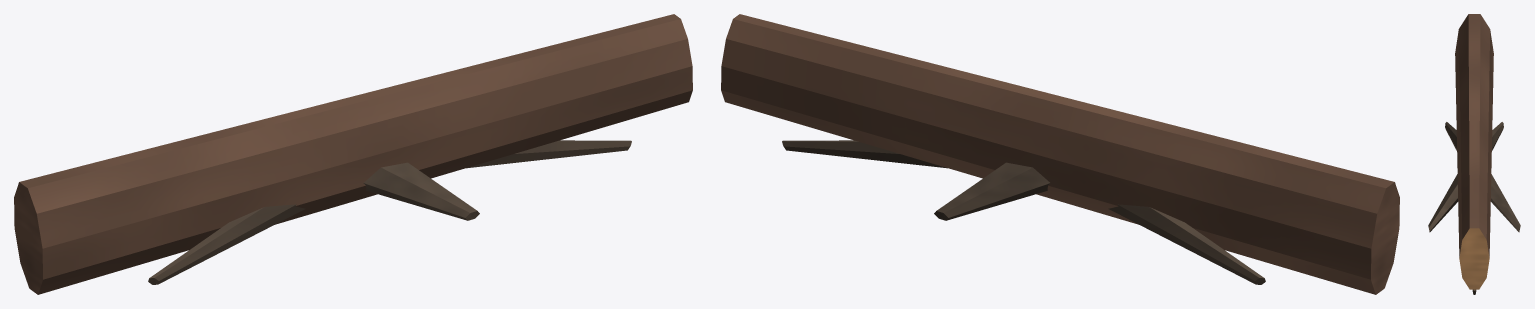
File: log_fallen_03.fbx
3 views of the same model, side by side, from view 1: azimuth 30°, elevation 25°; view 2: azimuth 150°, elevation 25°; view 3: azimuth 270°, elevation 25° (orthographic). The views are drawn at different scales.
Visible parts, largest first — view 1: log_fallen_03; view 2: log_fallen_03; view 3: log_fallen_03.
Boxes of the visible parts, bbox=[...] form: log_fallen_03: bbox=[14, 14, 692, 294]; log_fallen_03: bbox=[721, 14, 1399, 294]; log_fallen_03: bbox=[1428, 14, 1520, 294].
Bounding box in the file's own units: 800 × 140 × 140.
Materials: 1 (1 with a texture image).
